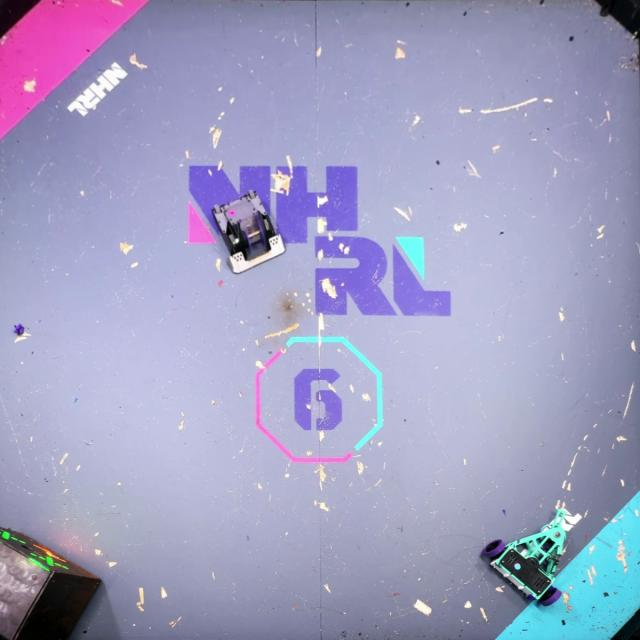housebot: (0, 524, 103, 640)
robot: (479, 506, 566, 608), (211, 188, 285, 274)
